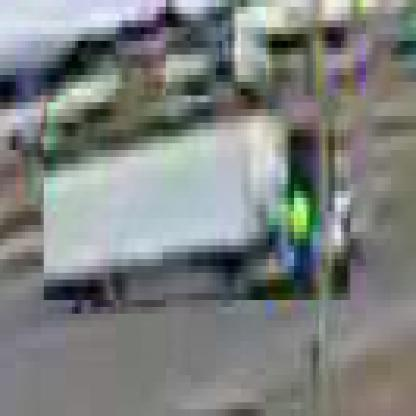container: (42, 103, 351, 308)
